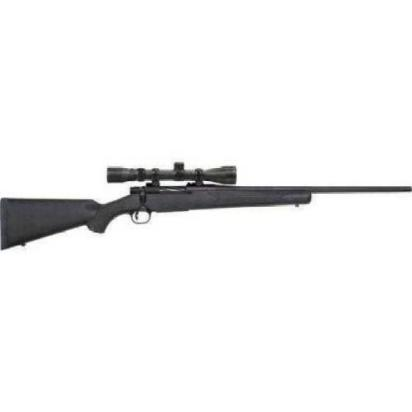Gun: (0, 162, 412, 256)
